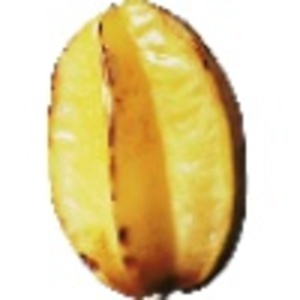carambola: (45, 1, 248, 300)
